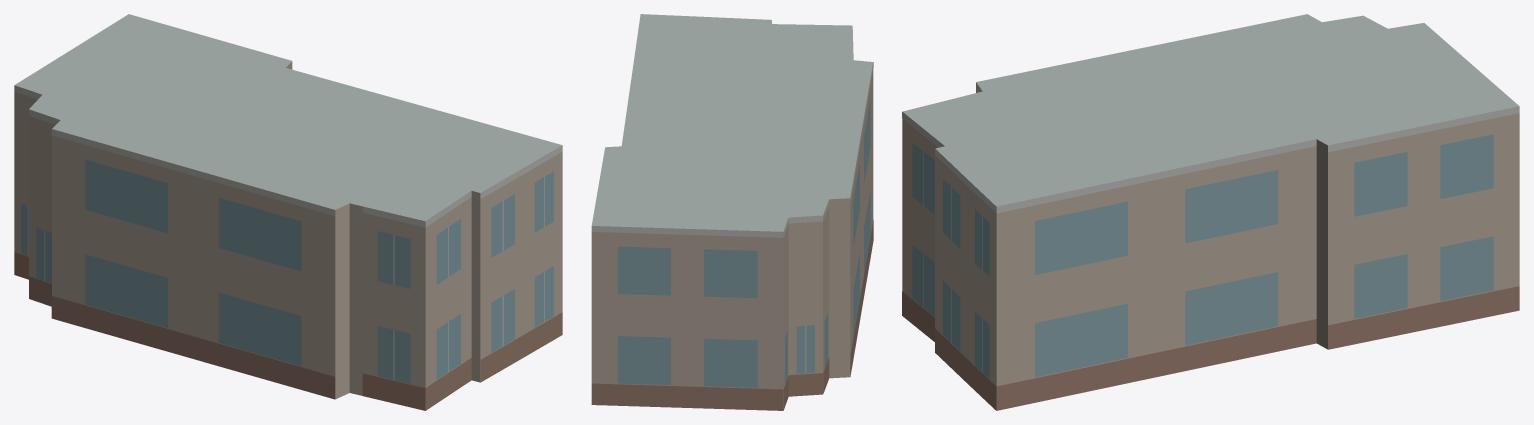
Rendered from survey-upis-32955878.glb.
The picture shows the model from 3 angles, left to right: view 1: azimuth 30°, elevation 25°; view 2: azimuth 150°, elevation 25°; view 3: azimuth 270°, elevation 25°; orthographic projection. The views are drawn at different scales.
Visible parts, largest first — view 1: survey-upis-32955878.tmp; view 2: survey-upis-32955878.tmp; view 3: survey-upis-32955878.tmp.
Boxes of the visible parts, <box> form: survey-upis-32955878.tmp: <box>14,14,562,410</box>; survey-upis-32955878.tmp: <box>591,14,873,410</box>; survey-upis-32955878.tmp: <box>902,14,1519,410</box>.
Bounding box in the file's own units: 14.78 × 7.3 × 20.01.
